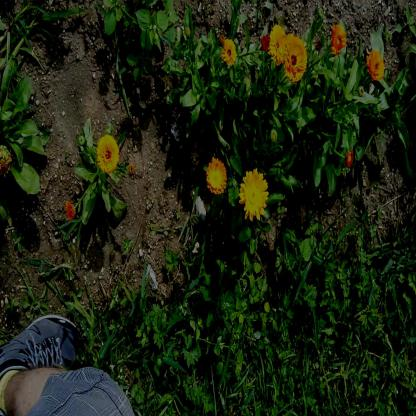marigold: (239, 168, 270, 222), (281, 40, 304, 79), (95, 132, 117, 171), (206, 156, 228, 192), (269, 26, 288, 60), (366, 50, 386, 81), (330, 23, 348, 55), (219, 37, 238, 65), (64, 198, 77, 221)
